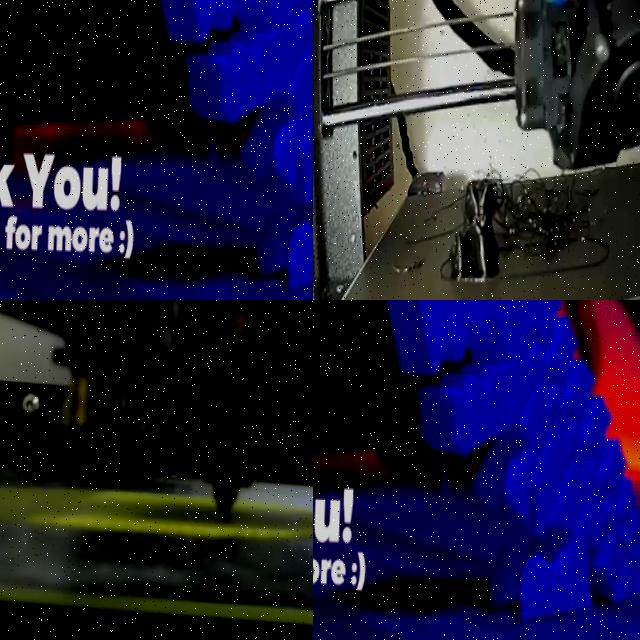spaghetti: (482, 157, 602, 258)
